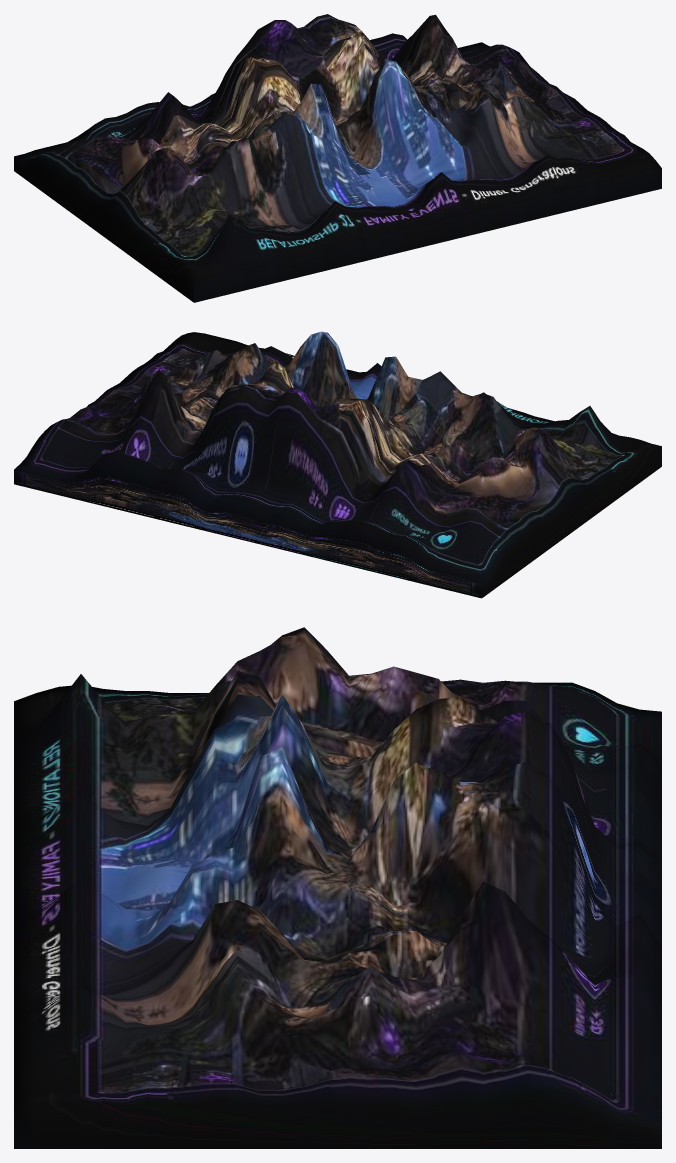
The model's file is RELATIONSHIP_27_Family_Events.glb.
The picture shows the model from 3 angles, top to bottom: view 1: azimuth 30°, elevation 25°; view 2: azimuth 150°, elevation 25°; view 3: azimuth 270°, elevation 25°; orthographic projection. The views are drawn at different scales.
Visible parts, largest first — view 1: RELATIONSHIP_27_Family_Events; view 2: RELATIONSHIP_27_Family_Events; view 3: RELATIONSHIP_27_Family_Events.
Boxes of the visible parts, box(x1,y1,x2,y2) form: RELATIONSHIP_27_Family_Events: box(14, 14, 661, 302); RELATIONSHIP_27_Family_Events: box(14, 331, 661, 598); RELATIONSHIP_27_Family_Events: box(14, 627, 661, 1148).
Size of the model in its own units: 2 by 0.51 by 1.33.
1 material, 1 textured.
